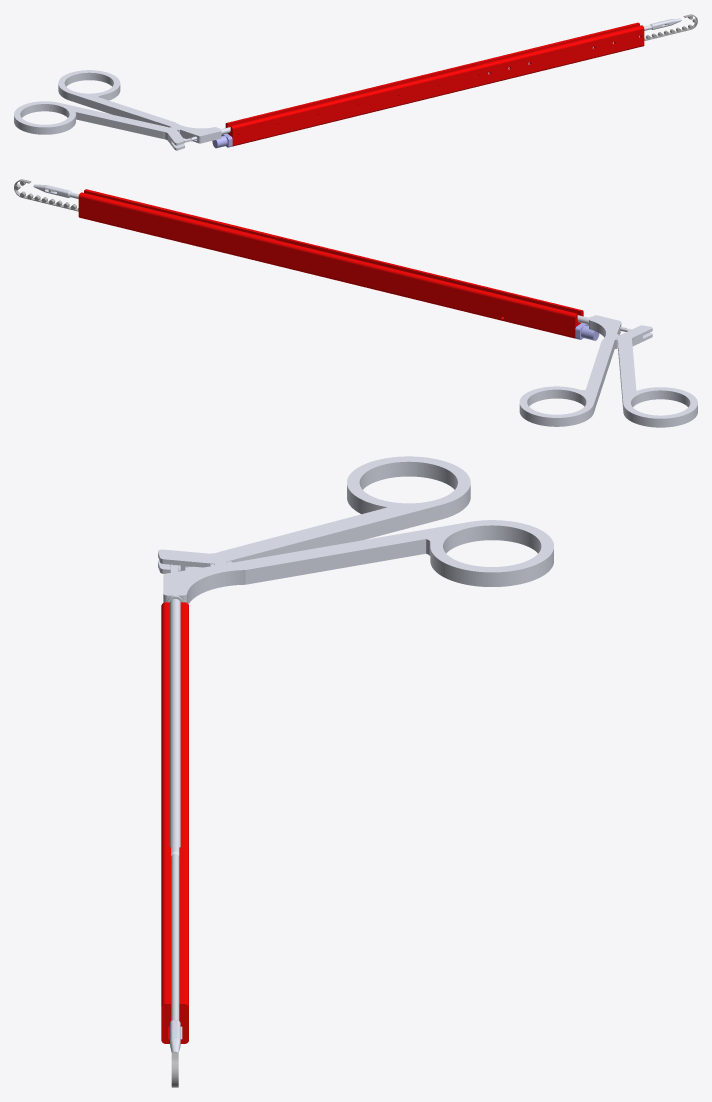
File: microkiap v4 (hooking position) (FULL BODY, JAW CLOSED).fbx
The picture shows the model from 3 angles, top to bottom: view 1: azimuth 30°, elevation 25°; view 2: azimuth 150°, elevation 25°; view 3: azimuth 270°, elevation 25°; orthographic projection. The views are drawn at different scales.
Visible parts, largest first — view 1: imagetostl_mesh3, imagetostl_mesh1, imagetostl_mesh5, imagetostl_mesh0; view 2: imagetostl_mesh3, imagetostl_mesh1, imagetostl_mesh5, imagetostl_mesh0; view 3: imagetostl_mesh1, imagetostl_mesh3, imagetostl_mesh5.
Part boxes in pixels (x1,y1,x2,y2): imagetostl_mesh3: (225, 22, 644, 146); imagetostl_mesh1: (14, 18, 681, 150); imagetostl_mesh5: (64, 18, 680, 149); imagetostl_mesh0: (644, 14, 697, 40); imagetostl_mesh3: (78, 189, 583, 338); imagetostl_mesh1: (33, 184, 697, 427); imagetostl_mesh5: (36, 184, 651, 426); imagetostl_mesh0: (14, 179, 78, 211); imagetostl_mesh1: (158, 456, 553, 1052); imagetostl_mesh3: (161, 602, 188, 1043); imagetostl_mesh5: (173, 485, 470, 1052).
Size of the model in its own units: 30897 by 1050 by 8544.
